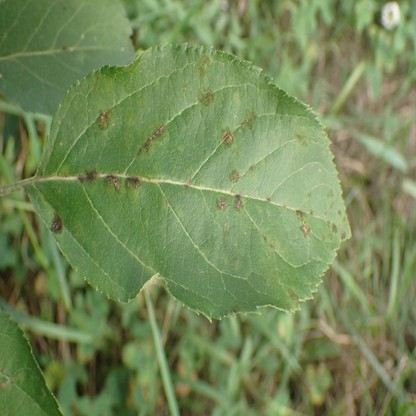scab: (136, 124, 167, 160), (321, 203, 346, 240), (260, 231, 288, 262), (124, 178, 141, 203), (103, 174, 122, 196), (263, 269, 286, 287), (78, 169, 98, 189), (242, 109, 258, 132), (296, 211, 309, 237), (197, 53, 211, 77), (97, 109, 112, 130), (285, 285, 299, 307), (221, 127, 234, 150), (199, 87, 214, 106), (50, 214, 62, 235), (295, 129, 308, 147), (232, 195, 244, 213), (71, 48, 84, 63), (215, 197, 229, 210), (173, 206, 184, 221), (229, 170, 240, 182), (60, 166, 70, 178), (186, 176, 194, 190), (160, 196, 169, 208), (222, 223, 230, 236), (40, 193, 48, 205), (232, 304, 240, 313), (232, 255, 239, 265), (327, 189, 334, 199), (38, 165, 43, 178), (266, 194, 272, 203), (309, 209, 316, 216), (248, 165, 253, 171), (307, 191, 313, 196), (282, 204, 285, 211)
